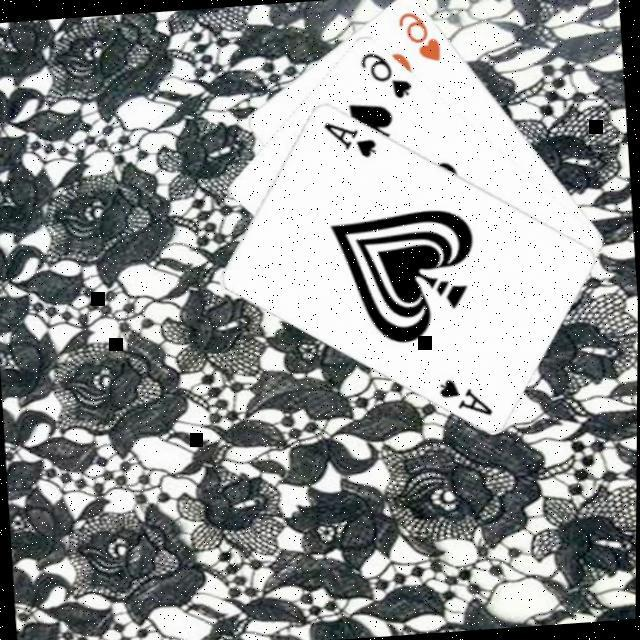6H: (392, 4, 444, 64)
6S: (354, 44, 414, 102)
AS: (432, 370, 496, 420), (318, 112, 379, 160)
